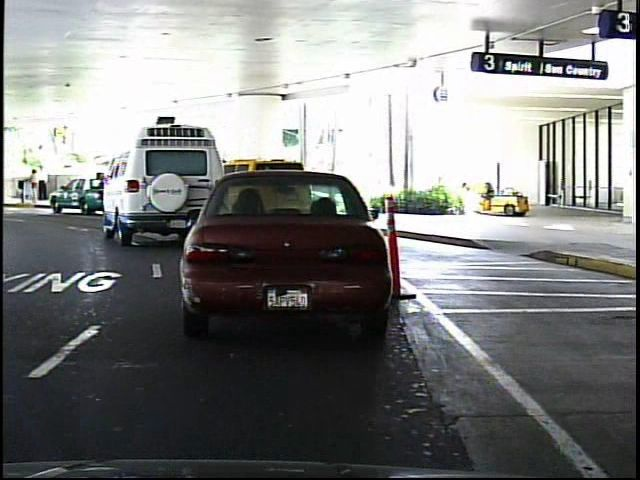person: (26, 167, 43, 206), (37, 163, 52, 203)
